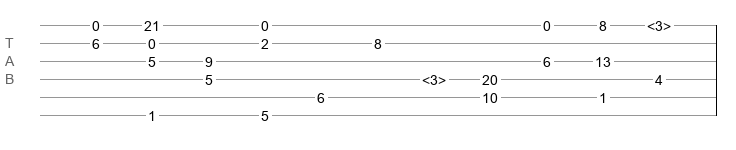0: (92, 18, 100, 28), (148, 36, 156, 46), (261, 18, 269, 28), (543, 18, 551, 28)
1: (148, 108, 156, 118), (599, 90, 607, 100)
10: (482, 90, 498, 100)
13: (595, 54, 611, 64)
2: (261, 36, 269, 46)
20: (482, 72, 498, 82)
21: (144, 18, 160, 28)
4: (655, 72, 663, 82)
5: (148, 54, 156, 64), (205, 72, 213, 82), (261, 108, 269, 118)
6: (92, 36, 100, 46), (317, 90, 325, 100), (543, 54, 551, 64)
8: (374, 36, 382, 46), (599, 18, 607, 28)
9: (205, 54, 213, 64)
harmonic: (422, 72, 446, 82), (647, 18, 671, 28)
